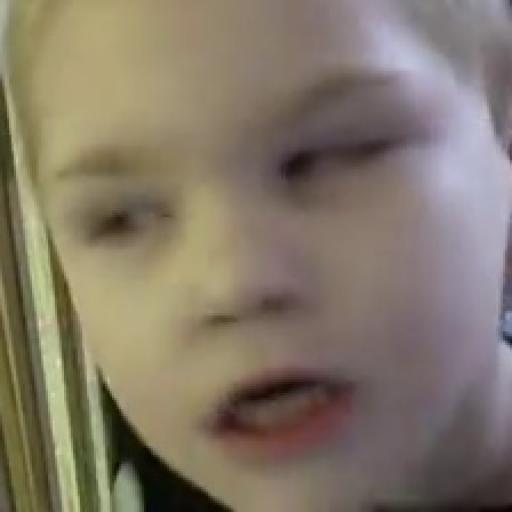Autism: (38, 13, 511, 512)
